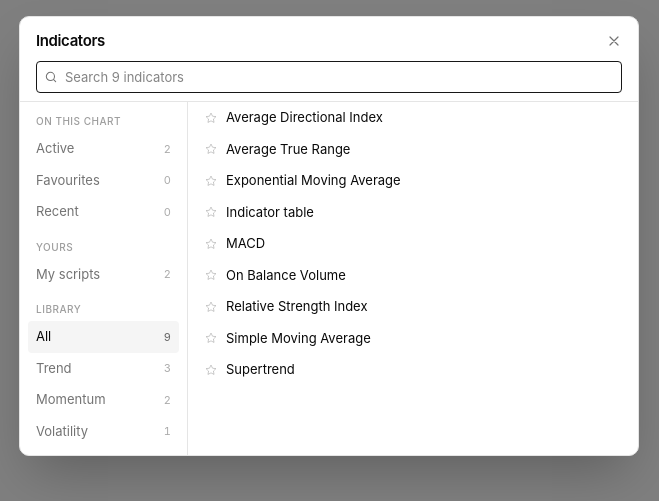
Scenario: the trader's own studies › gives them a section of their own, above the library
The width and height of the screenshot is (659, 501).
Click the button with aria-label "My scripts, 2 indicators" at (104, 274), box [28,258,179,290]
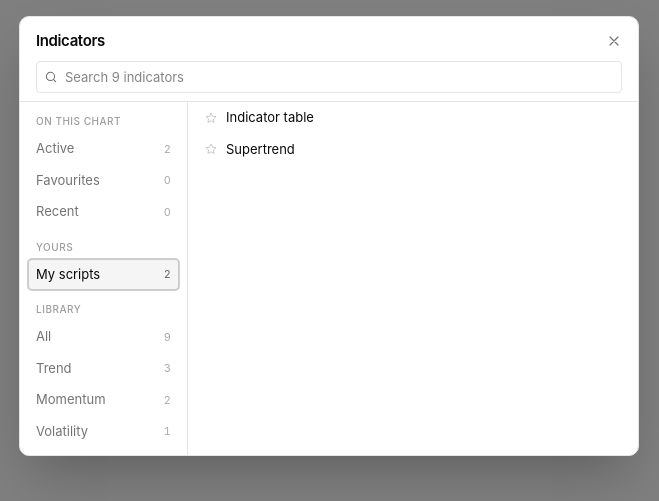
Expected: the button "Supertrend" is shown, [226,134,552,165]
Now the button "Relative Strength Index" is gone
